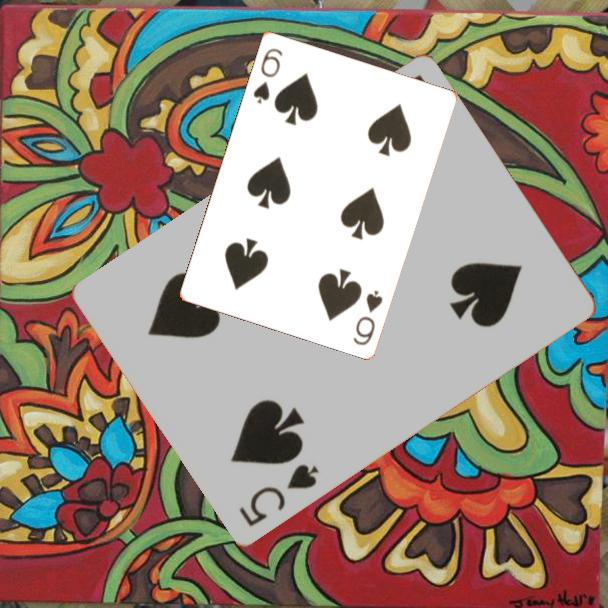s05: (235, 461, 322, 531)
s06: (349, 286, 386, 348), (249, 44, 285, 107)
